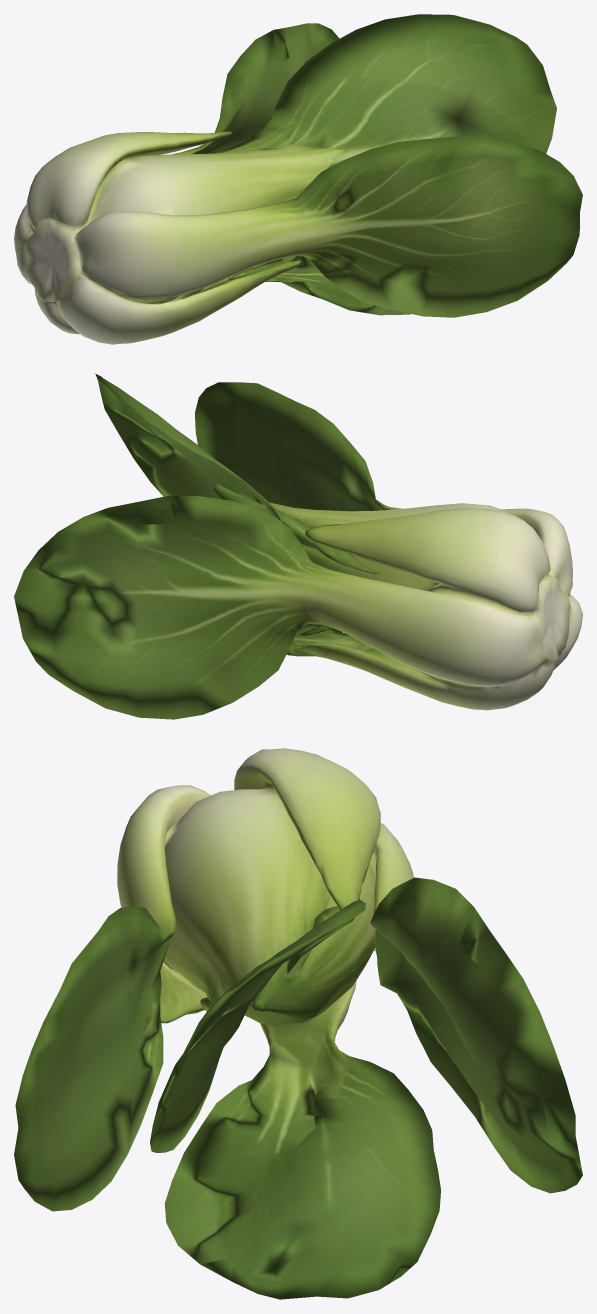
The picture shows the model from 3 angles, top to bottom: view 1: azimuth 30°, elevation 25°; view 2: azimuth 150°, elevation 25°; view 3: azimuth 270°, elevation 25°; orthographic projection. The views are drawn at different scales.
Visible parts, largest first — view 1: Bok Choy; view 2: Bok Choy; view 3: Bok Choy.
Boxes of the visible parts, x1=… form: Bok Choy: x1=14, y1=14, x2=582, y2=344; Bok Choy: x1=14, y1=373, x2=582, y2=719; Bok Choy: x1=14, y1=748, x2=582, y2=1299.
Size of the model in its own units: 0.998 by 0.4902 by 0.752.
1 material, 1 textured.
